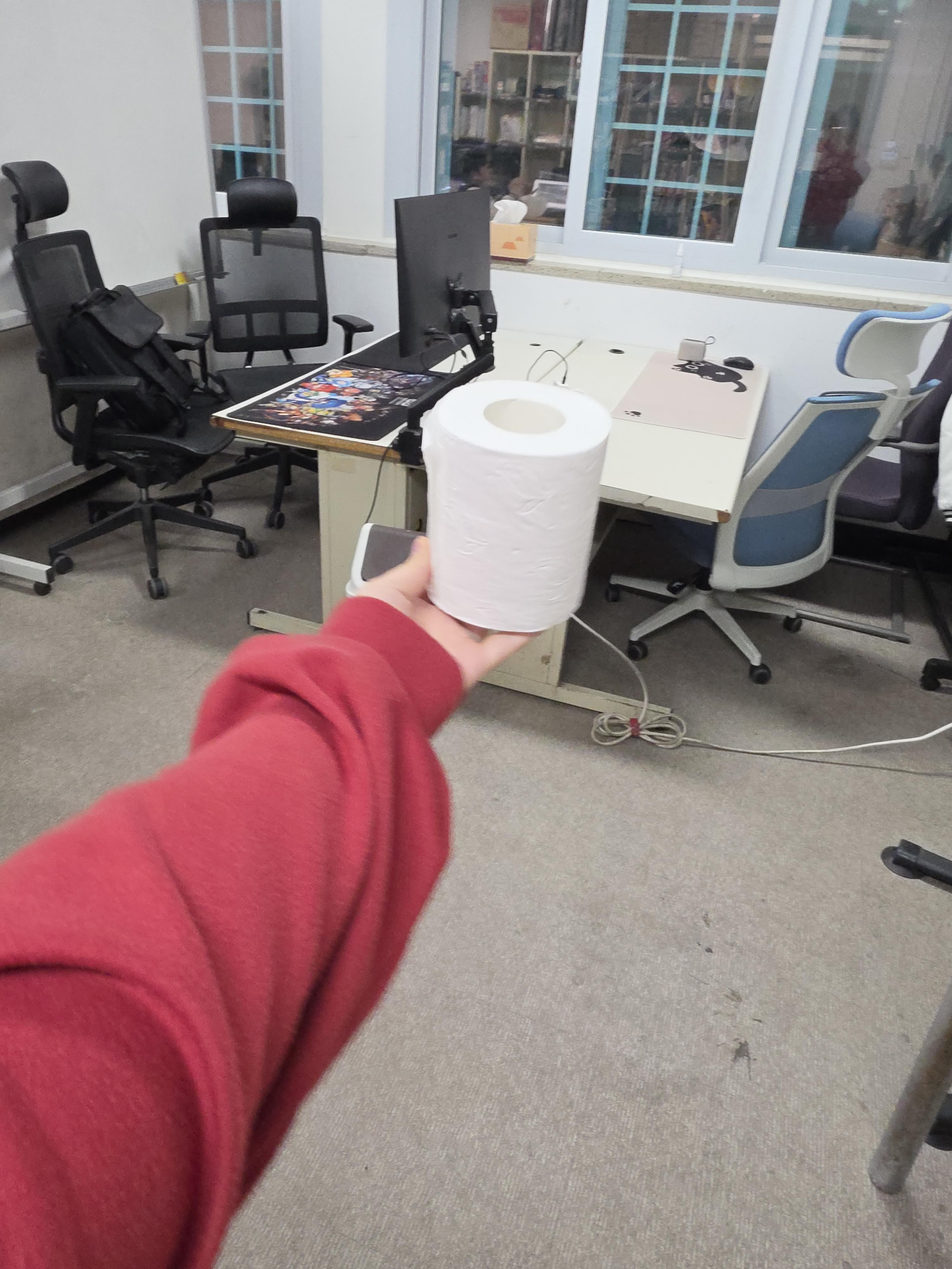tissue: (420, 378, 612, 635), (490, 200, 539, 263)
